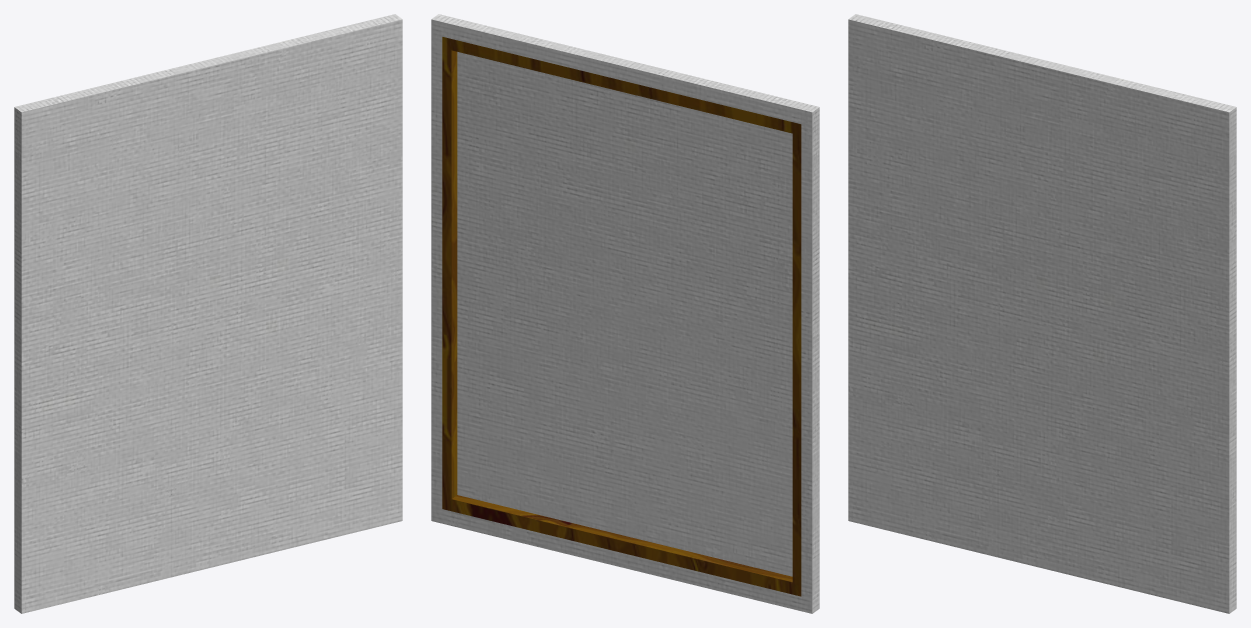
File: painting-canadian-squaw.gltf
The picture shows the model from 3 angles, left to right: view 1: azimuth 30°, elevation 25°; view 2: azimuth 150°, elevation 25°; view 3: azimuth 330°, elevation 25°; orthographic projection.
Parts seen in each view (by area): view 1: painting_canvas; view 2: painting_canvas (×2); view 3: painting_canvas.
Boxes of the visible parts, <box> form: painting_canvas: <box>14,14,402,613</box>; painting_canvas (×2): <box>431,14,819,613</box>; painting_canvas: <box>848,14,1236,613</box>.
Size of the model in its own units: 3.17 by 3.98 by 0.1059.
2 materials, 2 textured.
